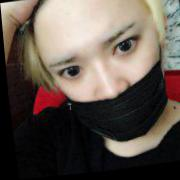WRONG: (39, 8, 171, 152)
